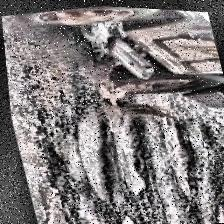pothole: (61, 105, 122, 205), (150, 111, 208, 203)
